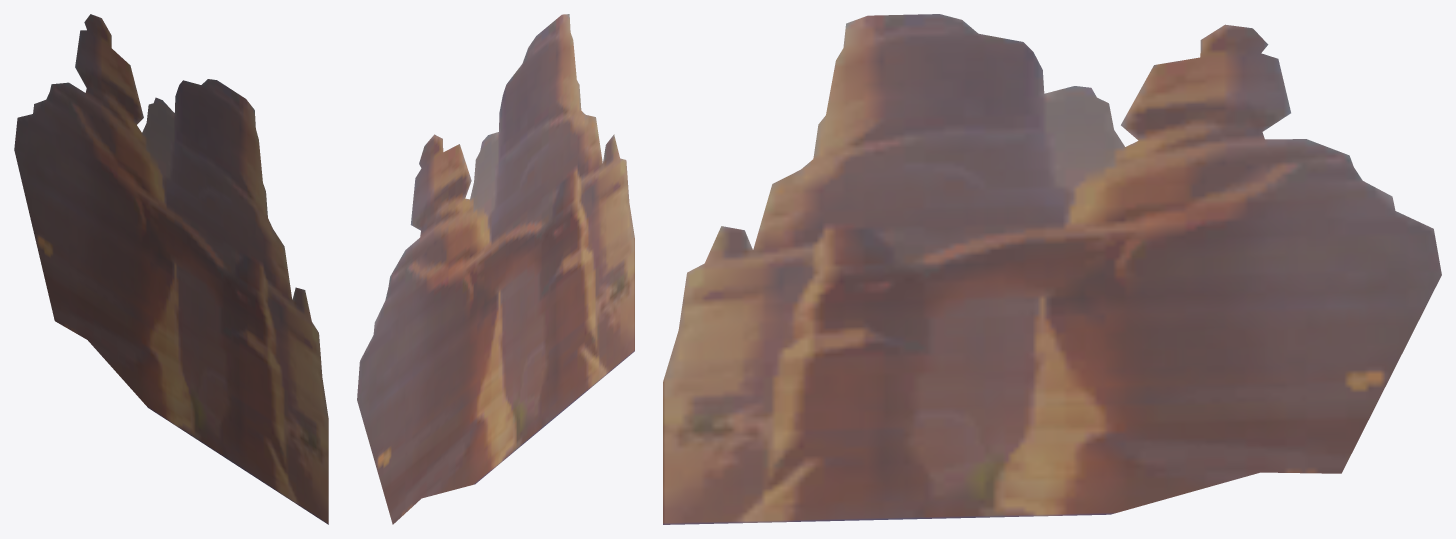
File: pref_sm_sce_066302_mountain04_lv2.fbx
3 renders of one model, left to right at view 1: azimuth 30°, elevation 25°; view 2: azimuth 150°, elevation 25°; view 3: azimuth 270°, elevation 25°, orthographic. The views are drawn at different scales.
Visible parts, largest first — view 1: pref_sm_sce_066302_mountain04_lv2; view 2: pref_sm_sce_066302_mountain04_lv2; view 3: pref_sm_sce_066302_mountain04_lv2.
Part boxes in pixels (box(x1,y1,x2,y2)): pref_sm_sce_066302_mountain04_lv2: box(14, 14, 328, 524); pref_sm_sce_066302_mountain04_lv2: box(357, 14, 634, 524); pref_sm_sce_066302_mountain04_lv2: box(663, 14, 1441, 524).
Size of the model in its own units: 5.24 by 68.99 by 96.5.
